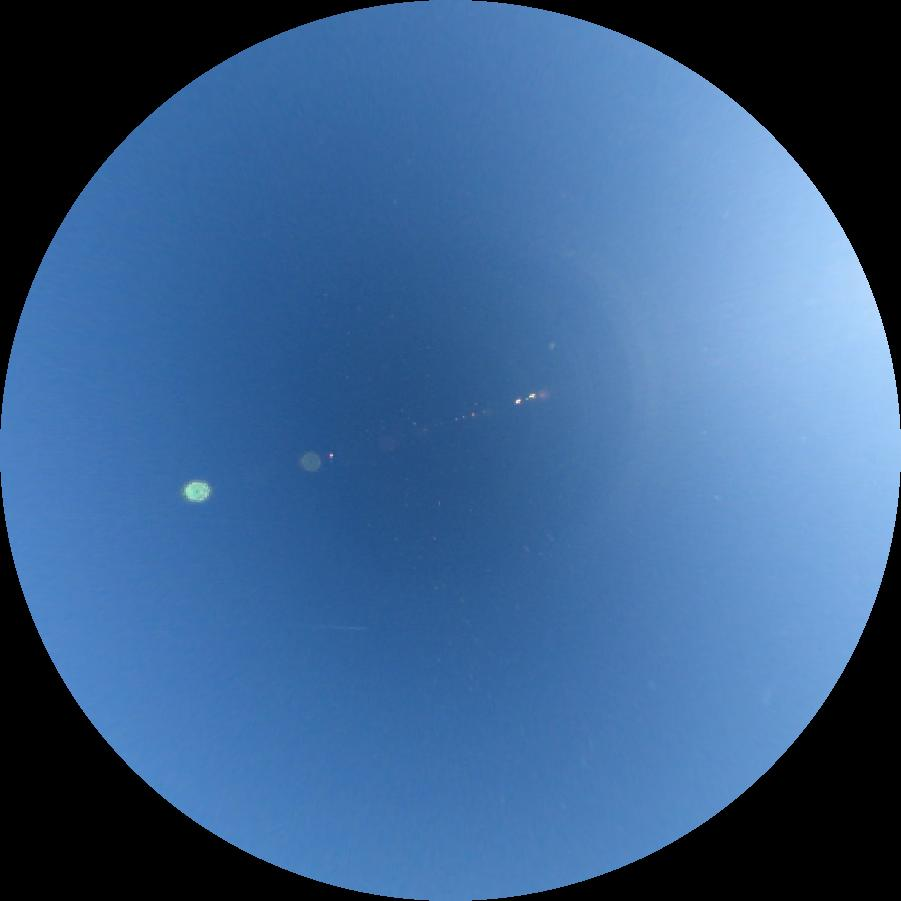contrail maybe: (761, 678, 777, 706)
contrail young: (286, 621, 369, 631)
